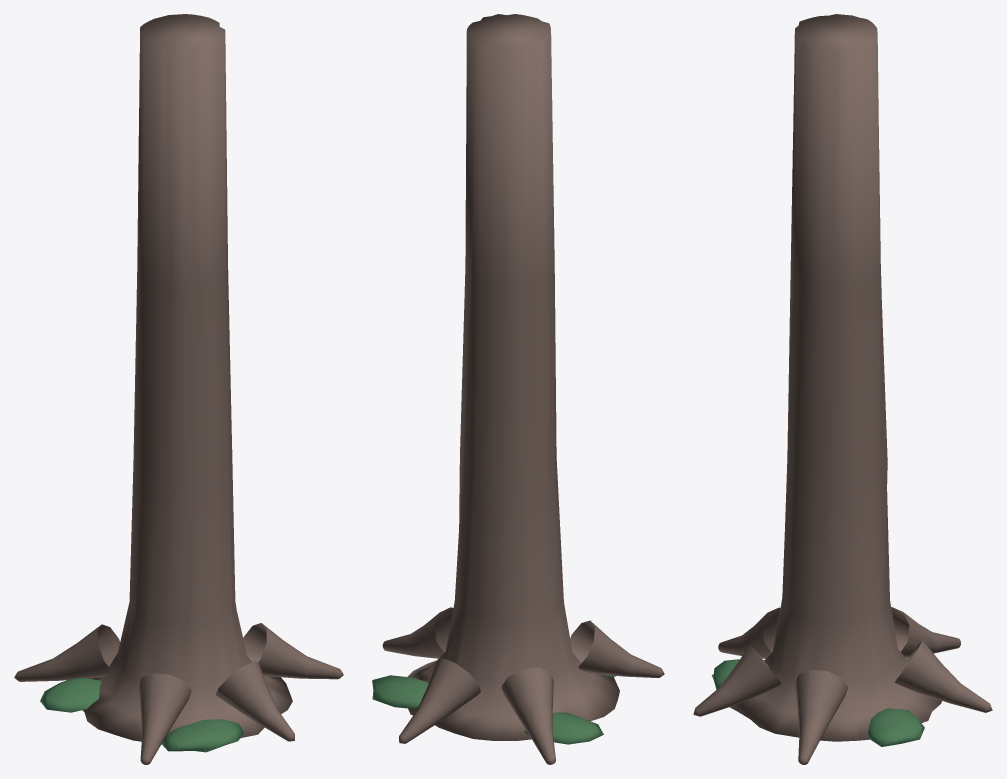
Rendered from tree_trunk.glb.
The picture shows the model from 3 angles, left to right: view 1: azimuth 30°, elevation 25°; view 2: azimuth 150°, elevation 25°; view 3: azimuth 270°, elevation 25°; orthographic projection.
Visible parts, largest first — view 1: TreeTrunk; view 2: TreeTrunk; view 3: TreeTrunk.
Boxes of the visible parts, bbox=[...] form: TreeTrunk: bbox=[14, 14, 343, 764]; TreeTrunk: bbox=[372, 14, 664, 764]; TreeTrunk: bbox=[693, 14, 992, 764].
Bounding box in the file's own units: 2.86 × 7.03 × 2.87.
